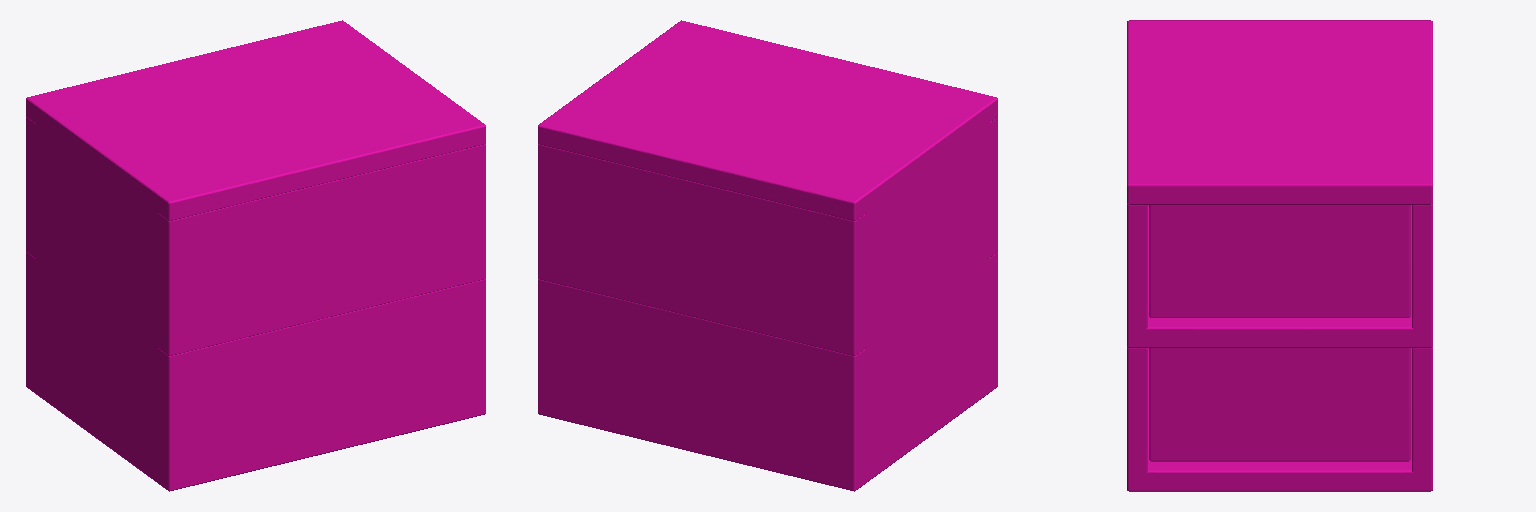
URDF robot description (tabletop):
<?xml version="1.0" ?>
<robot name="tabletop">
  <link name="bot1">

    <inertial>
      <origin rpy="0 0 0" xyz="0 0 0"/>
      <mass value="0.1" />
      <inertia ixx="1" ixy="0" ixz="0" iyy="1" iyz="0" izz="1"/>
    </inertial>
    
    <visual>
      <origin rpy="0 0 0" xyz="0 0 0"/>
      <geometry>
        <mesh filename="mesh/drawer_bot.obj" scale="1.0 1.0 1.0"/>
      </geometry>
      <material name="tray_material">
        <color rgba="0.9 0.10 0.68 1"/>
      </material>
    </visual>
    <collision>
      <origin rpy="0 0 0" xyz="0 0 0"/>
      <geometry>
        <mesh filename="mesh/drawer_bot.obj" scale="1.0 1.0 1.0"/>
      </geometry>
    </collision>
  </link>

  <joint name="joint1" type="prismatic">
    <parent link="bot1"/>
    <child link="main1"/>
    <origin rpy="0 0 0" xyz="0 0 0.011" />
    <axis rpy="0 0 0" xyz="1 0 0"/>
    <limit lower="0.0" upper="0.12" effort="0.0" velocity="3.15"/>
  </joint>
  

  <link name="main1">

    <inertial>
      <origin rpy="0 0 0" xyz="0 0 0"/>
      <mass value="0.1" />
      <inertia ixx="1" ixy="0" ixz="0" iyy="1" iyz="0" izz="1"/>
    </inertial>
    
    <visual>
      <origin rpy="0 0 0" xyz="0 0 0"/>
      <geometry>
        <mesh filename="mesh/drawer_main88.obj" scale="1.0 1.0 1.0"/>
      </geometry>
      <material name="tray_material">
        <color rgba="0.9 0.10 0.68 1"/>
      </material>
    </visual>
    <collision>
      <origin rpy="0 0 0" xyz="0 0 0"/>
      <geometry>
        <mesh filename="mesh/drawer_main88.obj" scale="1.0 1.0 1.0"/>
      </geometry>
    </collision>
  </link>

  <joint name="fix1" type="fixed">
    <parent link="bot1"/>
    <child link="bot2"/>
    <origin rpy="0 0 0" xyz="0 0 0.075" />
  </joint>

  <link name="bot2">

    <inertial>
      <origin rpy="0 0 0" xyz="0 0 0"/>
      <mass value="0.1" />
      <inertia ixx="1" ixy="0" ixz="0" iyy="1" iyz="0" izz="1"/>
    </inertial>
    
    <visual>
      <origin rpy="0 0 0" xyz="0 0 0"/>
      <geometry>
        <mesh filename="mesh/drawer_bot.obj" scale="1.0 1.0 1.0"/>
      </geometry>
      <material name="tray_material">
        <color rgba="0.9 0.10 0.68 1"/>
      </material>
    </visual>
    <collision>
      <origin rpy="0 0 0" xyz="0 0 0"/>
      <geometry>
        <mesh filename="mesh/drawer_bot.obj" scale="1.0 1.0 1.0"/>
      </geometry>
    </collision>
  </link>

  <joint name="joint2" type="prismatic">
    <parent link="bot2"/>
    <child link="main2"/>
    <origin rpy="0 0 0" xyz="0 0 0.011" />
    <axis xyz="1 0 0"/>
    <limit lower="0" upper="0.12" effort="0.0" velocity="3.15"/>
  </joint>


  <link name="main2">

    <inertial>
      <origin rpy="0 0 0" xyz="0 0 0"/>
      <mass value="0.1" />
      <inertia ixx="1" ixy="0" ixz="0" iyy="1" iyz="0" izz="1"/>
    </inertial>
    
    <visual>
      <origin rpy="0 0 0" xyz="0 0 0"/>
      <geometry>
        <mesh filename="mesh/drawer_main88.obj" scale="1.0 1.0 1.0"/>
      </geometry>
      <material name="tray_material">
        <color rgba="0.9 0.10 0.68 1"/>
      </material>
    </visual>
    <collision>
      <origin rpy="0 0 0" xyz="0 0 0"/>
      <geometry>
        <mesh filename="mesh/drawer_main88.obj" scale="1.0 1.0 1.0"/>
      </geometry>
    </collision>
  </link>

  <joint name="fix2" type="fixed">
    <parent link="bot2"/>
    <child link="cover"/>
    <origin rpy="0 0 0" xyz="0 0 0.075" />
  </joint>

  <link name="cover">

    <inertial>
      <origin rpy="0 0 0" xyz="0 0 0"/>
      <mass value="0.1" />
      <inertia ixx="1" ixy="0" ixz="0" iyy="1" iyz="0" izz="1"/>
    </inertial>
    
    <visual>
      <origin rpy="0 0 0" xyz="0 0 0"/>
      <geometry>
        <mesh filename="mesh/drawer_cover.obj" scale="1.0 1.0 1.0"/>
      </geometry>
      <material name="tray_material">
        <color rgba="0.9 0.10 0.68 1"/>
      </material>
    </visual>
    <collision>
      <origin rpy="0 0 0" xyz="0 0 0"/>
      <geometry>
        <mesh filename="mesh/drawer_cover.obj" scale="1.0 1.0 1.0"/>
      </geometry>
    </collision>

  </link>
   <joint name="action_point_joint" type="fixed">
    <parent link="main2"/>
    <child link="action_point"/>
    <origin rpy="0.0 0.0 0.0" xyz="0.0705 0.0 0.03" />
  </joint>


  <link name="action_point">
  </link>

  <joint name="penalty_point_joint" type="fixed">
    <parent link="main2"/>
    <child link="penalty_point"/>
    <origin rpy="0.0 0.0 0.0" xyz="0.1095 0.0 0.03" />
  </joint>


  <link name="penalty_point">
  </link>
</robot>

--- Render facts (derived) ---
The picture shows the robot from 3 angles, left to right: view 1: azimuth 30°, elevation 25°; view 2: azimuth 150°, elevation 25°; view 3: azimuth 270°, elevation 25°; orthographic projection.
Model tabletop with 7 links and 6 joints (2 prismatic, 4 fixed), rooted at bot1, posed all joints at 0.
Links seen in each view (by area): view 1: bot1, cover, bot2, main2, main1; view 2: bot2, bot1, cover, main1, main2; view 3: cover, main1, main2, bot1, bot2.
Boxes of the visible links, x1=… form: bot1: x1=26, y1=252, x2=485, y2=491; cover: x1=26, y1=20, x2=485, y2=220; bot2: x1=26, y1=117, x2=485, y2=355; main2: x1=36, y1=124, x2=157, y2=323; main1: x1=36, y1=259, x2=157, y2=456; bot2: x1=538, y1=117, x2=997, y2=355; bot1: x1=538, y1=252, x2=997, y2=491; cover: x1=538, y1=20, x2=997, y2=220; main1: x1=866, y1=259, x2=987, y2=452; main2: x1=866, y1=124, x2=987, y2=322; cover: x1=1127, y1=20, x2=1432, y2=204; main1: x1=1149, y1=348, x2=1410, y2=461; main2: x1=1149, y1=205, x2=1410, y2=317; bot1: x1=1127, y1=347, x2=1432, y2=491; bot2: x1=1127, y1=204, x2=1432, y2=347.
Size in the robot's own frame: 0.185 by 0.145 by 0.161 metres.
Meshes: 3 distinct files referenced, 5 mesh visuals loaded (3 OBJ).